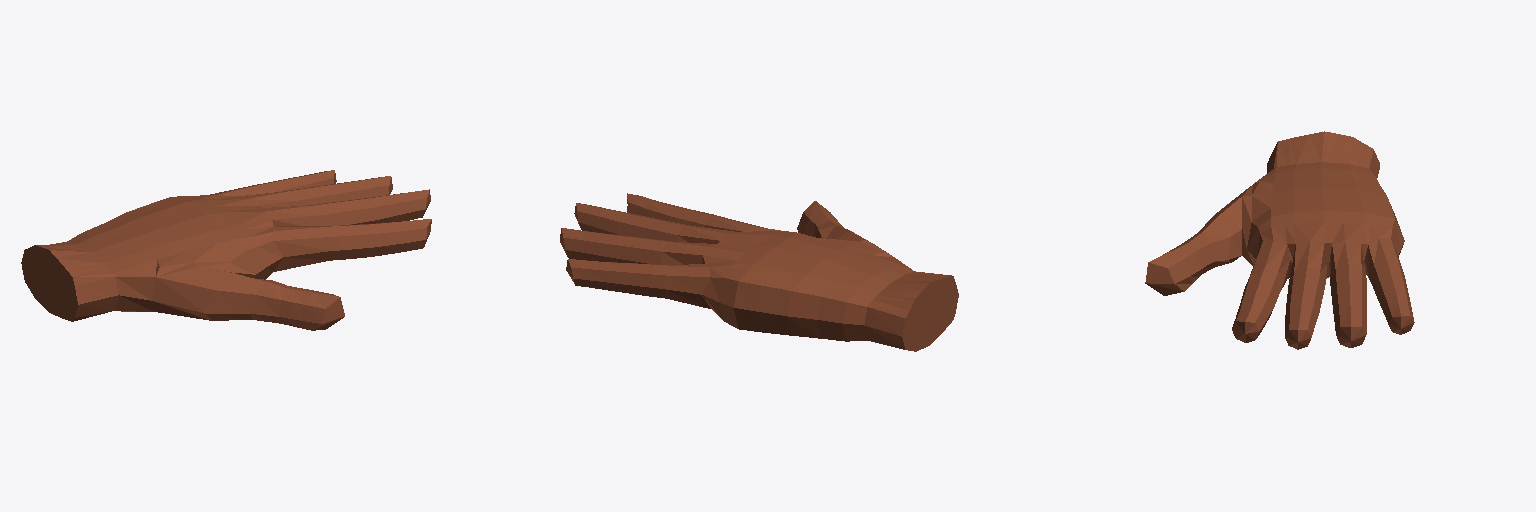
The model's file is TextureHand.obj.
3 renders of one model, left to right at view 1: azimuth 30°, elevation 25°; view 2: azimuth 150°, elevation 25°; view 3: azimuth 270°, elevation 25°, orthographic.
Visible parts, largest first — view 1: pinky1; view 2: pinky1; view 3: pinky1.
Boxes of the visible parts, <box> form: pinky1: <box>21,170,431,330</box>; pinky1: <box>560,193,958,351</box>; pinky1: <box>1145,131,1414,349</box>.
Size of the model in its own units: 17.38 by 3.12 by 10.99.